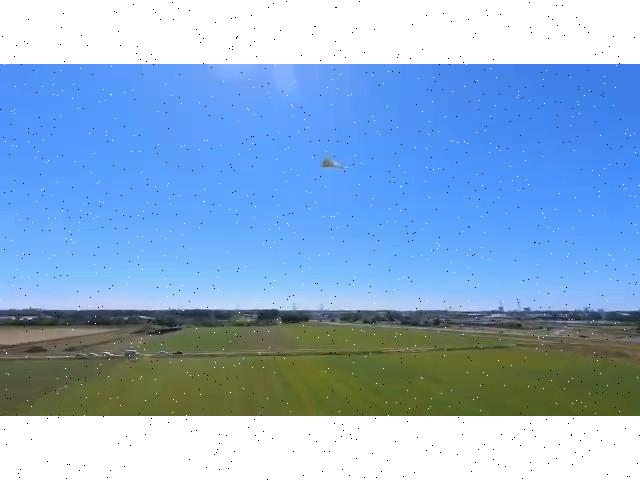Anti-Drone: (316, 141, 356, 187)
